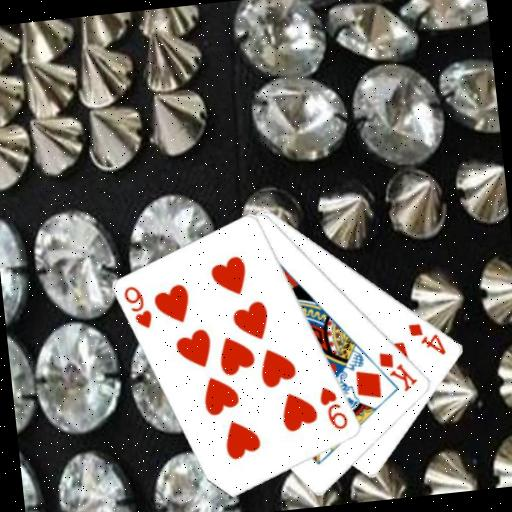4D: (405, 317, 449, 360)
9H: (316, 382, 351, 434), (120, 281, 155, 333)
KD: (375, 345, 420, 396)
